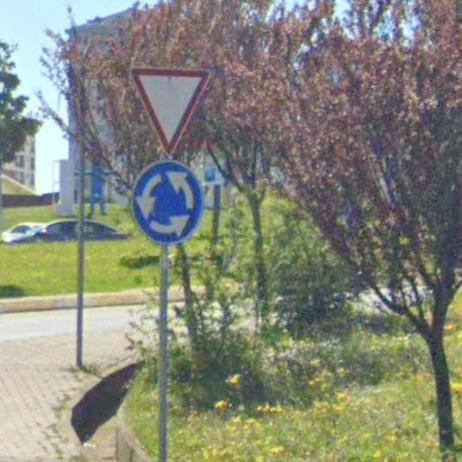crossroads: (130, 159, 202, 240)
